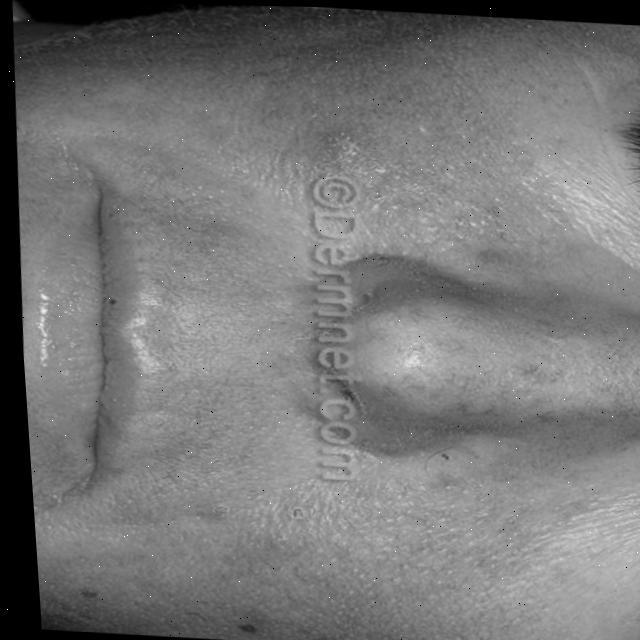Rosacea: (257, 100, 554, 523)
